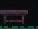workbench: (0, 1, 38, 29)
